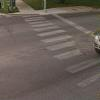Crosswalk: (18, 11, 91, 84)
